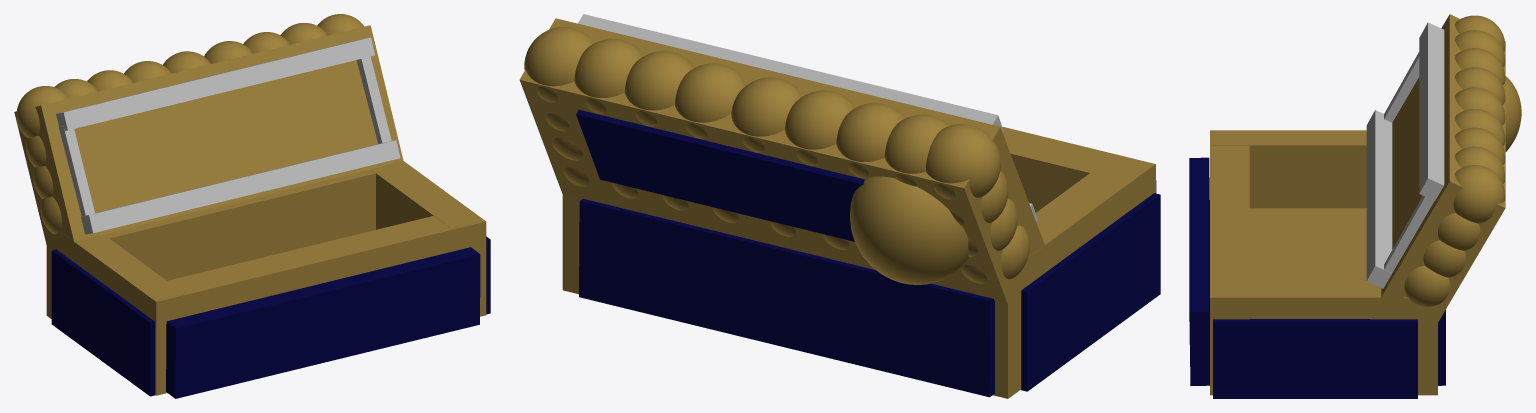
File: Sarcophagus.fbx
The picture shows the model from 3 angles, left to right: view 1: azimuth 30°, elevation 25°; view 2: azimuth 150°, elevation 25°; view 3: azimuth 270°, elevation 25°; orthographic projection. The views are drawn at different scales.
Parts seen in each view (by area): view 1: pasted__pasted__pCube1, pasted__pasted__pCube4, pasted__pCube1, pCube1, pasted__pCube5, pasted__pCube6 (×2), pasted__pasted__pCube6, pasted__pSphere2 (×8), pasted__pCube2, pCube2, pCube6, pasted__pasted__pSphere2 (×2) (+2 smaller); view 2: pasted__pCube4, pasted__pSphere2 (×8), pasted__pasted__pCube1, pCube4, pasted__pCube5, pSphere1, pCube2, pCube1, pasted__pCube1, pasted__pCube6, pSphere2, pasted__pasted__pSphere2 (×2) (+1 smaller); view 3: pCube5, pasted__pSphere2 (×10), pCube2, pasted__pasted__pCube1, pCube3, pCube1, pasted__pCube2, pasted__pCube6 (×2), pasted__pasted__pCube4, pasted__pasted__pCube6, pasted__pCube1, pSphere2 (+4 smaller).
Part boxes in pixels (<box>): pasted__pasted__pCube1: <box>14,25,403,244</box>; pasted__pasted__pCube4: <box>166,247,480,398</box>; pasted__pCube1: <box>46,169,375,318</box>; pCube1: <box>137,216,486,395</box>; pasted__pCube5: <box>51,249,154,396</box>; pasted__pCube6 (×2): <box>56,37,391,143</box>; pasted__pasted__pCube6: <box>81,140,400,234</box>; pasted__pSphere2 (×8): <box>16,23,327,137</box>; pasted__pCube2: <box>371,161,484,229</box>; pCube2: <box>65,234,184,307</box>; pCube6: <box>59,126,94,216</box>; pasted__pasted__pSphere2 (×2): <box>26,135,61,234</box>; pasted__pCube4: <box>579,198,994,397</box>; pasted__pSphere2 (×8): <box>574,39,1000,199</box>; pasted__pasted__pCube1: <box>519,18,1044,304</box>; pCube4: <box>576,109,864,241</box>; pasted__pCube5: <box>1021,193,1160,391</box>; pSphere1: <box>850,176,968,284</box>; pCube2: <box>1030,155,1153,267</box>; pCube1: <box>1002,126,1155,212</box>; pasted__pCube1: <box>562,195,1052,398</box>; pasted__pCube6: <box>578,14,1003,132</box>; pSphere2: <box>524,27,594,102</box>; pasted__pasted__pSphere2 (×2): <box>949,171,1029,283</box>; pCube5: <box>1213,319,1417,398</box>; pasted__pSphere2 (×10): <box>1404,15,1505,306</box>; pCube2: <box>1212,130,1366,208</box>; pasted__pasted__pCube1: <box>1381,14,1505,322</box>; pCube3: <box>1249,208,1366,280</box>; pCube1: <box>1210,130,1249,395</box>; pasted__pCube2: <box>1212,280,1403,318</box>; pasted__pCube6 (×2): <box>1384,22,1444,272</box>; pasted__pasted__pCube4: <box>1189,157,1209,385</box>; pasted__pasted__pCube6: <box>1366,110,1392,288</box>; pasted__pCube1: <box>1370,297,1437,395</box>; pSphere2: <box>1453,165,1505,223</box>.
Size of the model in its own units: 7.74 by 4.49 by 6.18.
